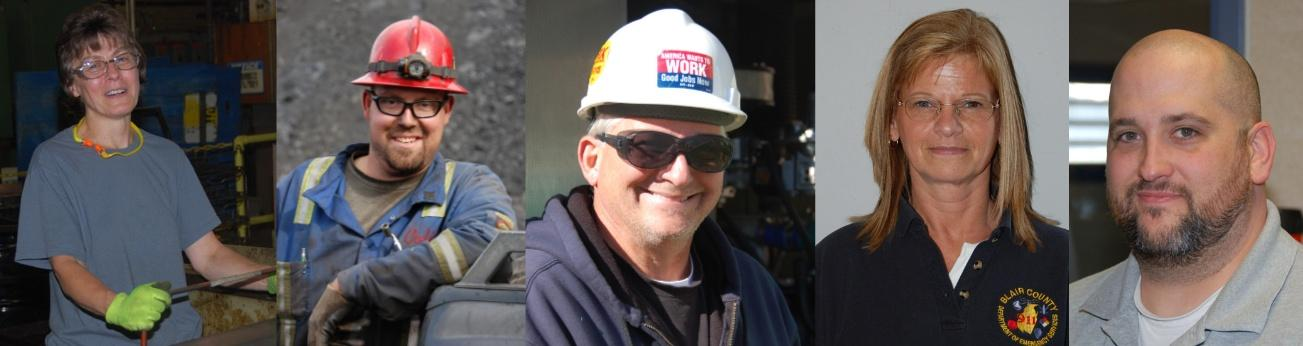helmet: (583, 11, 754, 120), (352, 17, 462, 95)
